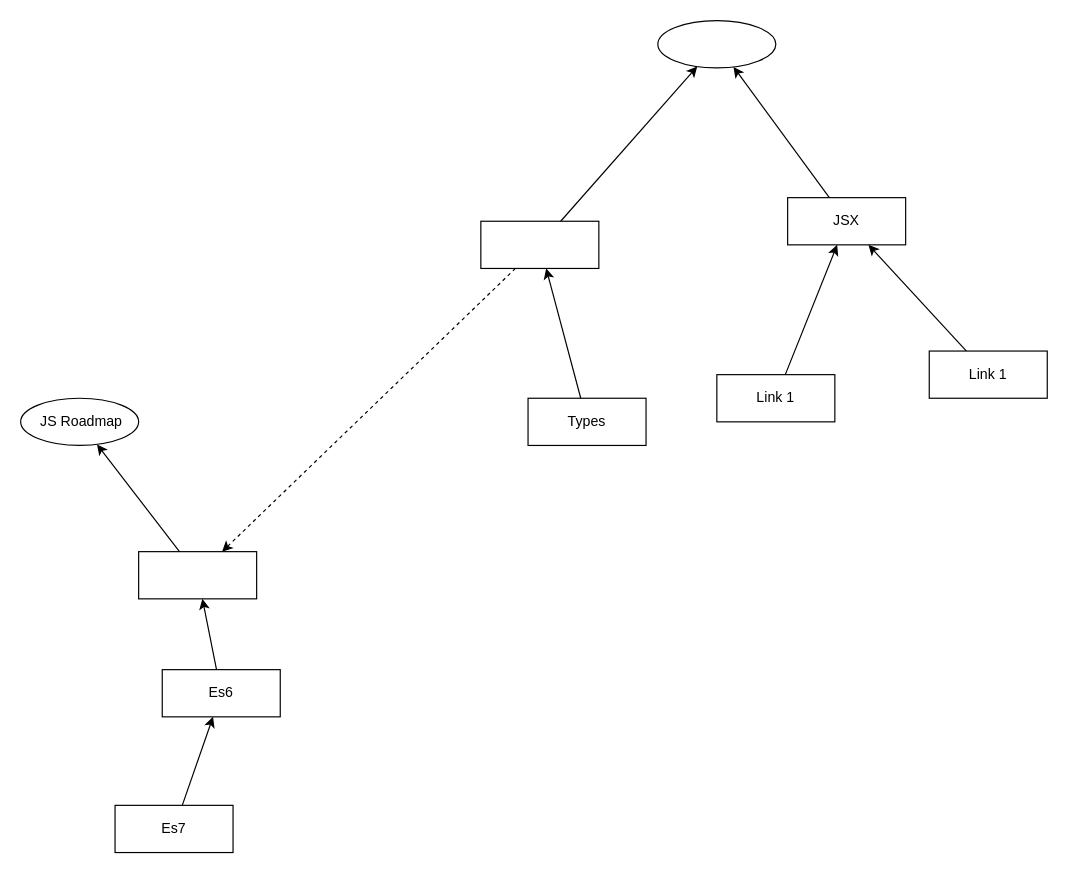
This 1068x873 diagram has some shape labels left out. Here are the shapes that lost their labels. From the top down, the centre of each, then its label:
At (716,43): "React Roadmap".
At (539,244): "Javascript & Typescript".
At (197,574): "Javscript".
